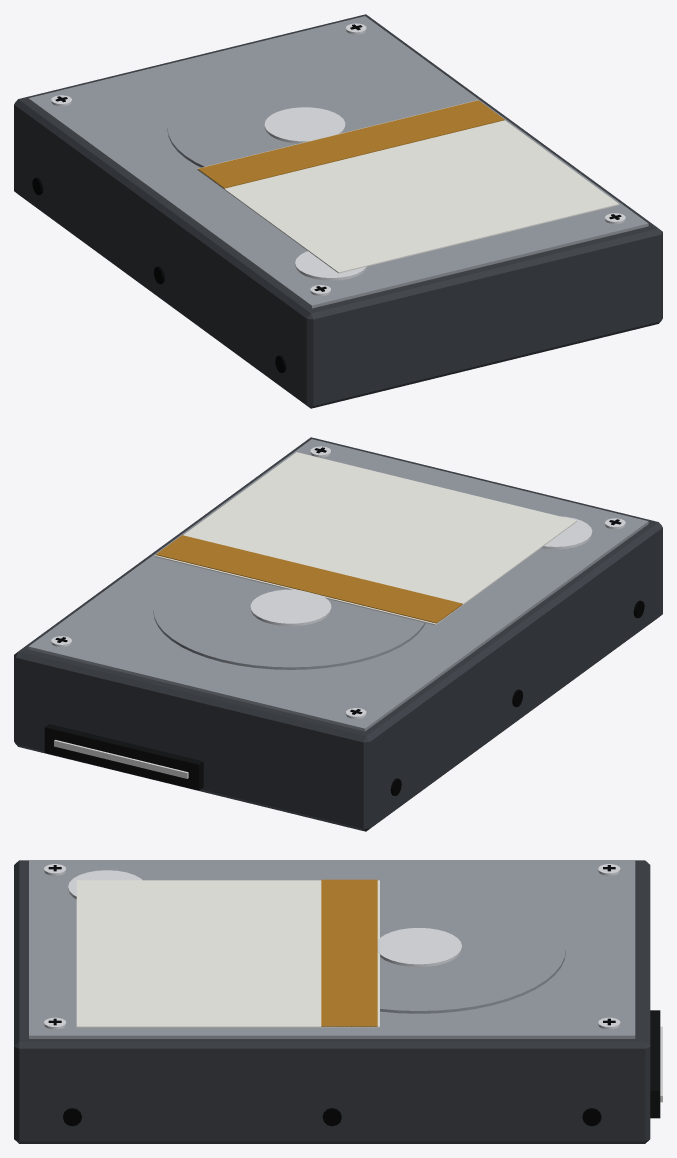
File: hw_sto_hdd_2tb.glb
3 views of the same model, one above another, from view 1: azimuth 30°, elevation 25°; view 2: azimuth 150°, elevation 25°; view 3: azimuth 270°, elevation 25° (orthographic). The views are drawn at different scales.
Parts seen in each view (by area): view 1: Body; view 2: Body; view 3: Body.
Boxes of the visible parts, x1,y1,x2,y2 form: Body: [14, 14, 662, 408]; Body: [14, 437, 662, 831]; Body: [14, 860, 662, 1143].
Size of the model in its own units: 0.1028 by 0.0284 by 0.1499.
